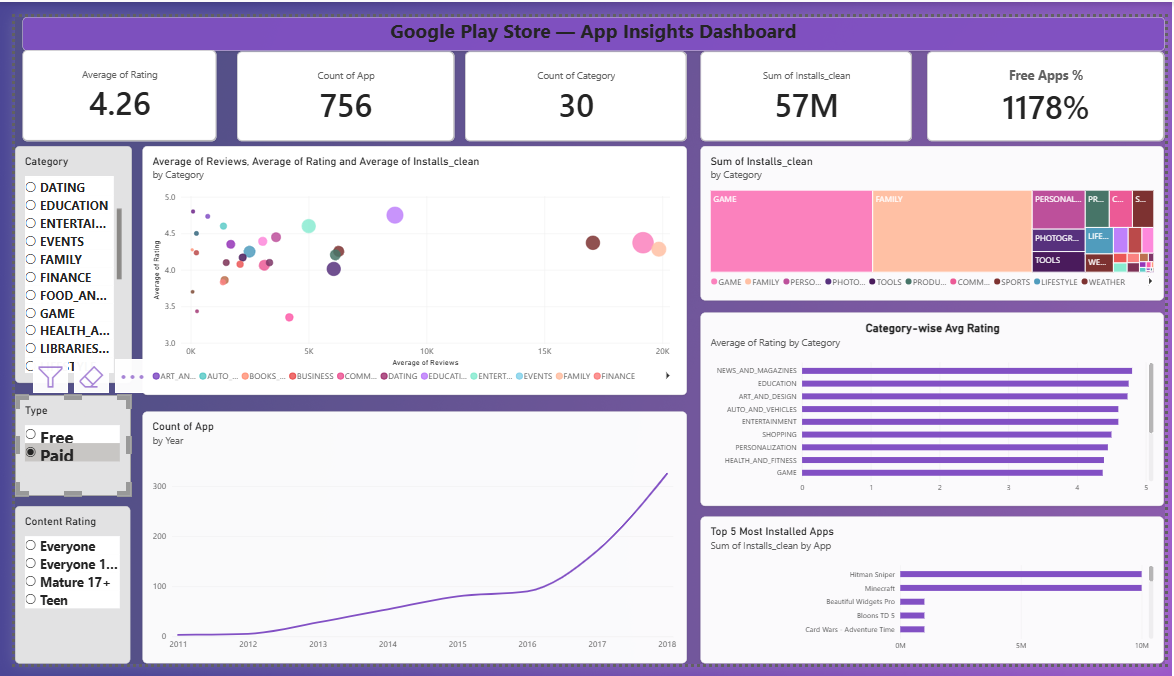

The dashboard page shown, as its layout file describes it:
{"tool":"powerbi","page":{"name":" App Insights Dashboard","canvas":[1920,1080],"ordinal":0},"visuals":[{"type":"textbox","box":[0,0,1919.2,55.1],"z":0},{"type":"cardVisual","fields":{"Data":["Avg(googleplaystore_cleaned.Rating)"]},"box":[0,55.1,335.7,152.8],"z":1000},{"type":"cardVisual","fields":{"Data":["CountNonNull(googleplaystore_cleaned.App)"]},"box":[370.3,58.1,363,150.1],"z":2000},{"type":"cardVisual","fields":{"Data":["Count(googleplaystore_cleaned.Category)"]},"box":[751.6,57.6,370.8,150.3],"z":3000},{"type":"cardVisual","fields":{"Data":["Sum(googleplaystore_cleaned.Installs_clean)"]},"box":[1145,57.6,353.3,150.3],"z":4000},{"type":"cardVisual","fields":{"Data":["googleplaystore_cleaned.Free Apps %"]},"box":[1522.3,58.1,396.9,150.1],"z":5000},{"type":"listSlicer","fields":{"Values":["googleplaystore_cleaned.Category"]},"box":[0,215.5,195.4,395.9],"z":6000},{"type":"listSlicer","fields":{"Values":["googleplaystore_cleaned.Type"]},"box":[0,631.4,192.9,167.9],"z":6001},{"type":"listSlicer","fields":{"Values":["googleplaystore_cleaned.Content Rating"]},"box":[0,816.8,192.9,263.1],"z":6002},{"type":"clusteredBarChart","title":"Category-wise Avg Rating","fields":{"Category":["googleplaystore_cleaned.Category"],"Y":["Avg(googleplaystore_cleaned.Rating)"]},"box":[1145,493.6,774.2,323.2],"z":6003},{"type":"treemap","fields":{"Group":["googleplaystore_cleaned.Category"],"Values":["Sum(googleplaystore_cleaned.Installs_clean)"]},"box":[1145,215.5,774.2,258.1],"z":6004},{"type":"scatterChart","fields":{"X":["Avg(googleplaystore_cleaned.Reviews)"],"Y":["Avg(googleplaystore_cleaned.Rating)"],"Size":["Avg(googleplaystore_cleaned.Installs_clean)"],"Series":["googleplaystore_cleaned.Category"]},"box":[213,215.5,909.5,415.9],"z":6005},{"type":"lineChart","fields":{"Category":["googleplaystore_cleaned.Last Updated.Variation.Date Hierarchy.Year","googleplaystore_cleaned.Last Updated.Variation.Date Hierarchy.Quarter","googleplaystore_cleaned.Last Updated.Variation.Date Hierarchy.Month"],"Y":["CountNonNull(googleplaystore_cleaned.App)"]},"box":[213,658.9,909.5,420.9],"z":6006},{"type":"clusteredBarChart","title":"Top 5 Most Installed Apps","fields":{"Category":["googleplaystore_cleaned.App"],"Y":["Sum(googleplaystore_cleaned.Installs_clean)"]},"box":[1145,834.3,774.2,245.5],"z":6007}]}

Visuals, with their boxes in screenshot pixels (x1, y1, x2, y2), scaled from the page's 1920x1080 canvas onto the 1174x676 screenshot:
textbox: (0,0,1173,34)
cardVisual - Avg(googleplaystore_cleaned.Rating): (0,34,205,130)
cardVisual - CountNonNull(googleplaystore_cleaned.App): (226,36,448,130)
cardVisual - Count(googleplaystore_cleaned.Category): (460,36,686,130)
cardVisual - Sum(googleplaystore_cleaned.Installs_clean): (700,36,916,130)
cardVisual - googleplaystore_cleaned.Free Apps %: (931,36,1173,130)
listSlicer - googleplaystore_cleaned.Category: (0,135,119,383)
listSlicer - googleplaystore_cleaned.Type: (0,395,118,500)
listSlicer - googleplaystore_cleaned.Content Rating: (0,511,118,675)
"Category-wise Avg Rating" clusteredBarChart: (700,309,1173,511)
treemap - googleplaystore_cleaned.Category x Sum(googleplaystore_cleaned.Installs_clean): (700,135,1173,296)
scatterChart - Avg(googleplaystore_cleaned.Reviews) x Avg(googleplaystore_cleaned.Rating): (130,135,686,395)
lineChart - googleplaystore_cleaned.Last Updated.Variation.Date Hierarchy.Year x googleplaystore_cleaned.Last Updated.Variation.Date Hierarchy.Quarter: (130,412,686,675)
"Top 5 Most Installed Apps" clusteredBarChart: (700,522,1173,675)
